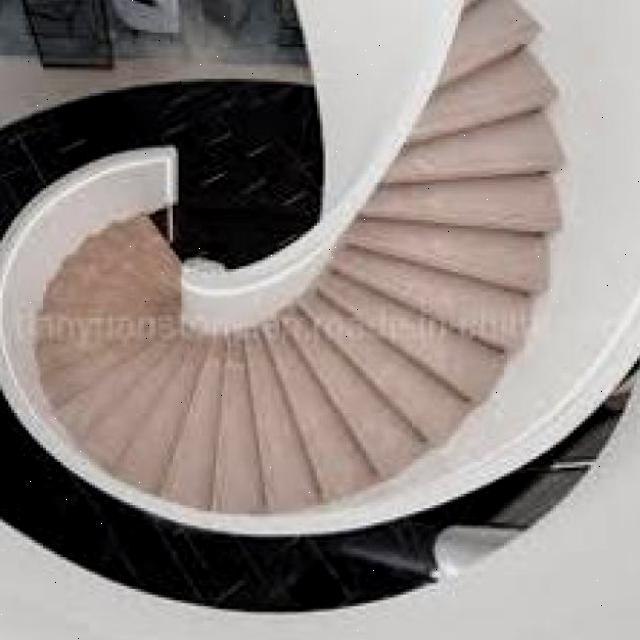stair: (291, 165, 531, 448)
